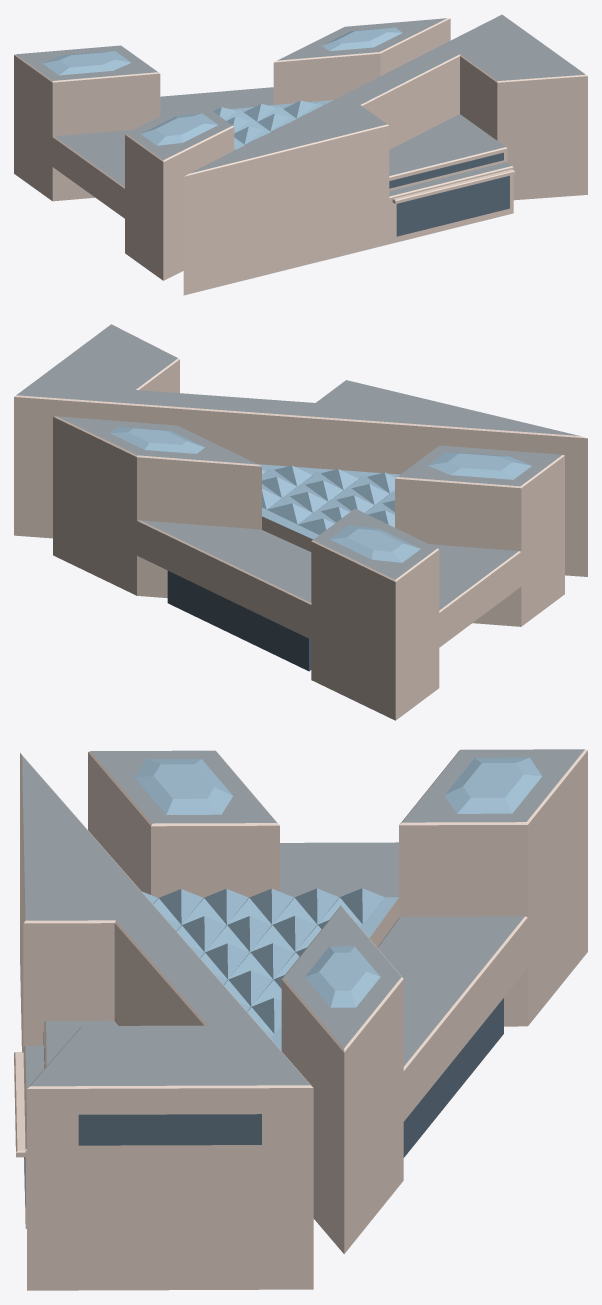
The picture shows the model from 3 angles, top to bottom: view 1: azimuth 30°, elevation 25°; view 2: azimuth 150°, elevation 25°; view 3: azimuth 270°, elevation 25°; orthographic projection. The views are drawn at different scales.
Visible parts, largest first — view 1: national-gallery-of-art-east-building; view 2: national-gallery-of-art-east-building; view 3: national-gallery-of-art-east-building.
Part boxes in pixels (bbox=[...]): national-gallery-of-art-east-building: bbox=[14, 14, 587, 295]; national-gallery-of-art-east-building: bbox=[14, 324, 587, 720]; national-gallery-of-art-east-building: bbox=[14, 749, 587, 1290].
Size of the model in its own units: 118 by 33.9 by 84.37.
